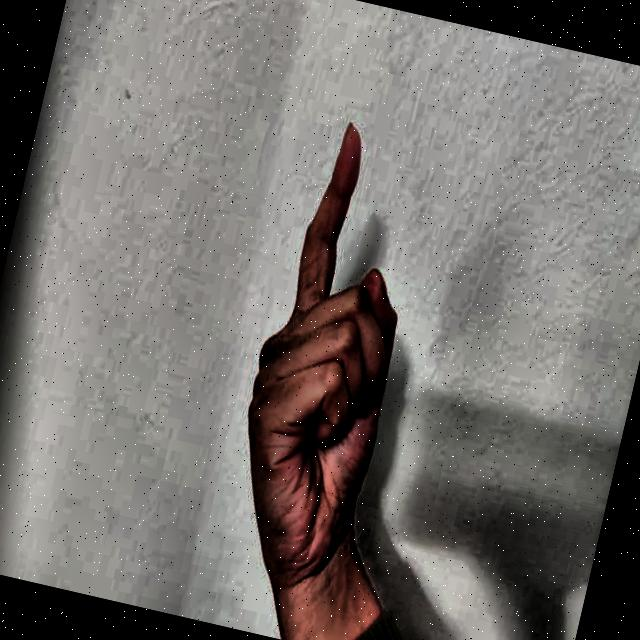U: (186, 78, 492, 602)
